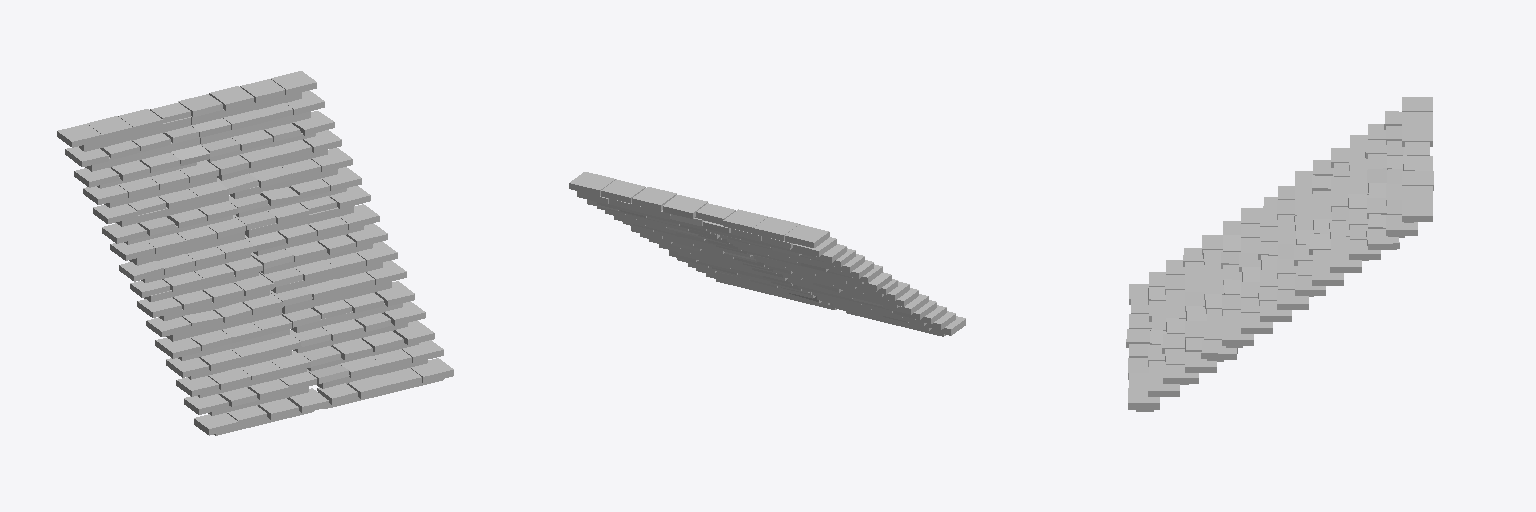
The model's file is stairs.obj.
3 views of the same model, side by side, from view 1: azimuth 30°, elevation 25°; view 2: azimuth 150°, elevation 25°; view 3: azimuth 270°, elevation 25° (orthographic).
Parts seen in each view (by area): view 1: 3DSMesh_0_0; view 2: 3DSMesh_0_0; view 3: 3DSMesh_0_0.
Part boxes in pixels (left/top/right/bottom): 3DSMesh_0_0: left=57, top=71, right=453, bottom=435; 3DSMesh_0_0: left=569, top=172, right=965, bottom=336; 3DSMesh_0_0: left=1126, top=97, right=1433, bottom=411.
Size of the model in its own units: 26.55 by 20.63 by 28.76.